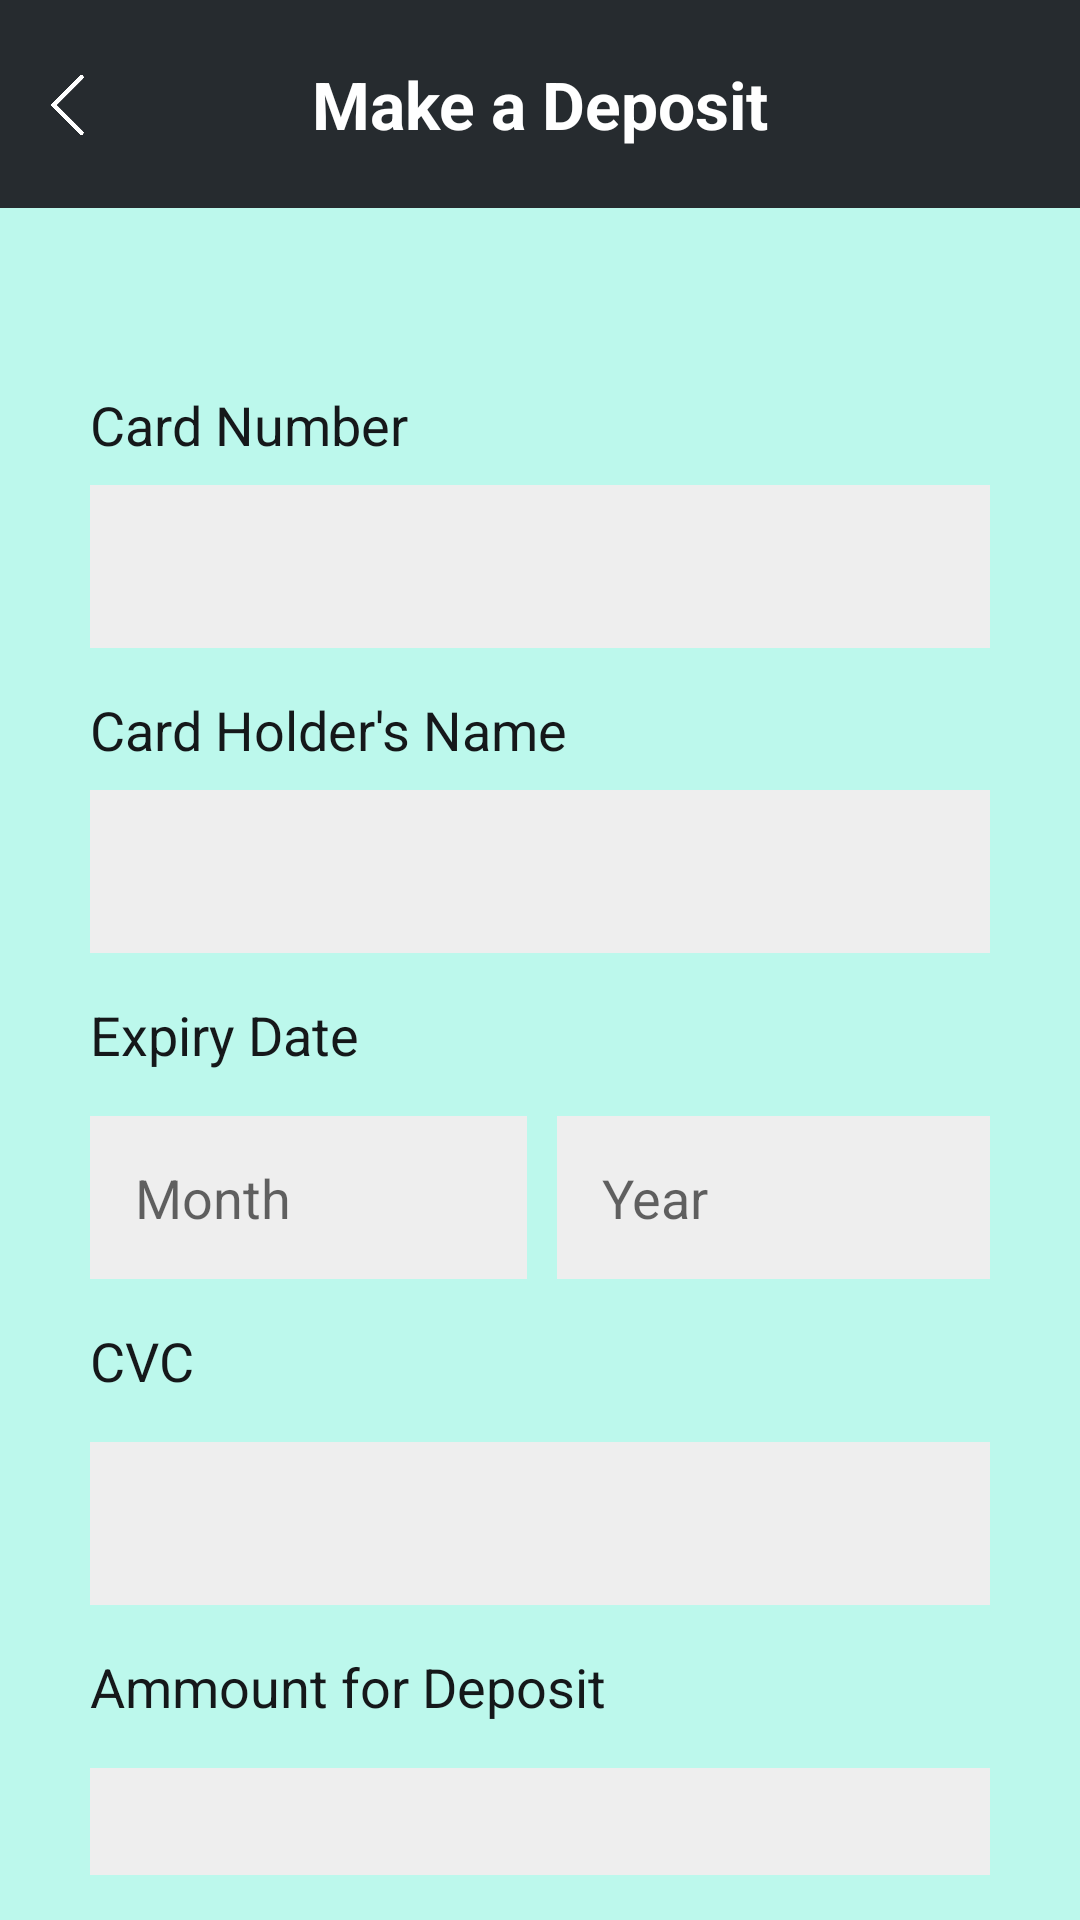

Point at icon controls on the screen. Image size 1080px×1920px, points as (x=x, y=y).
backwhite: (x=67, y=105)
